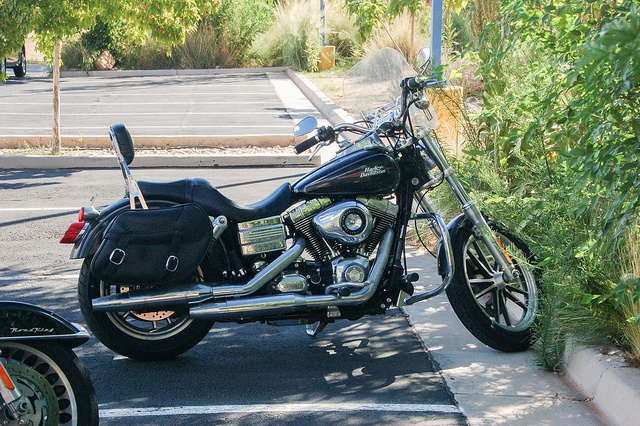non-vehicle: (59, 48, 547, 363), (1, 299, 97, 421)
